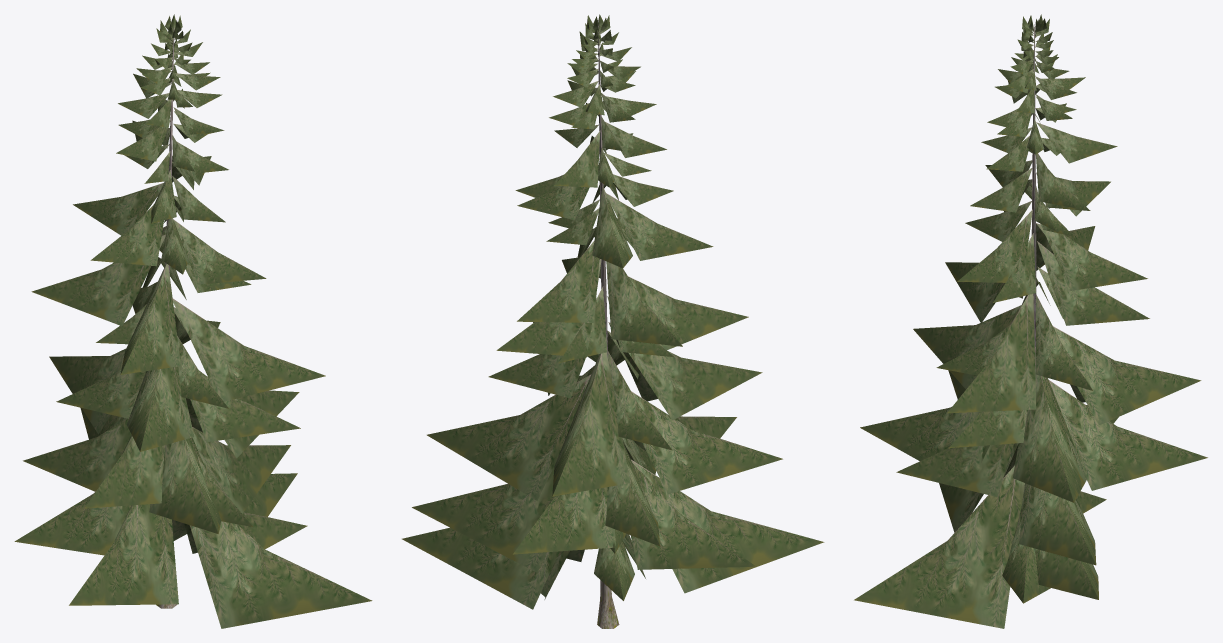
File: spruce_LOD3.fbx
The picture shows the model from 3 angles, left to right: view 1: azimuth 30°, elevation 25°; view 2: azimuth 150°, elevation 25°; view 3: azimuth 270°, elevation 25°; orthographic projection. The views are drawn at different scales.
Visible parts, largest first — view 1: spruce 2_1; view 2: spruce 2_1, spruce 1_0; view 3: spruce 2_1, spruce 1_0.
Part boxes in pixels (x1,y1,x2,y2): spruce 2_1: (14,14,372,628); spruce 2_1: (402,14,824,609); spruce 1_0: (597,24,619,628); spruce 2_1: (854,14,1207,628); spruce 1_0: (1031,24,1036,346).
Size of the model in its own units: 117 by 208 by 115.
2 materials, 2 textured.
